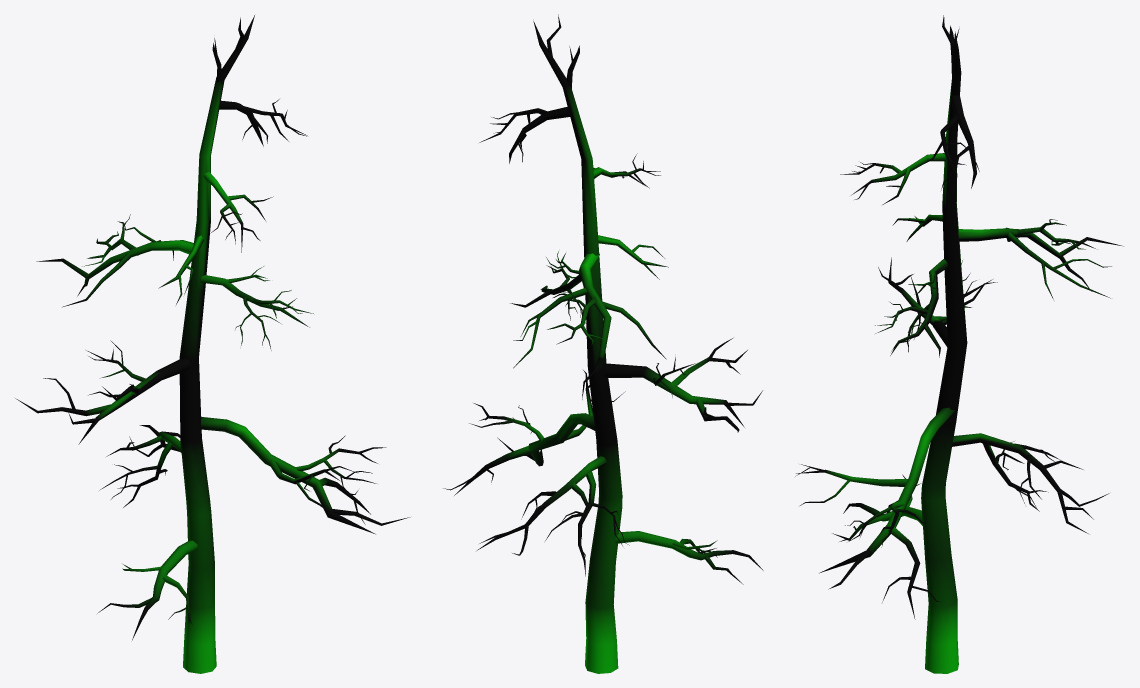
The model's file is SM_PineDead01.fbx.
The picture shows the model from 3 angles, left to right: view 1: azimuth 30°, elevation 25°; view 2: azimuth 150°, elevation 25°; view 3: azimuth 270°, elevation 25°; orthographic projection. The views are drawn at different scales.
Visible parts, largest first — view 1: SM_PineDead01_LOD0; view 2: SM_PineDead01_LOD0; view 3: SM_PineDead01_LOD0.
Boxes of the visible parts, x1,y1,x2,y2 form: SM_PineDead01_LOD0: [15, 15, 410, 673]; SM_PineDead01_LOD0: [443, 14, 763, 673]; SM_PineDead01_LOD0: [795, 15, 1123, 673].
Size of the model in its own units: 840 by 1603 by 716.
